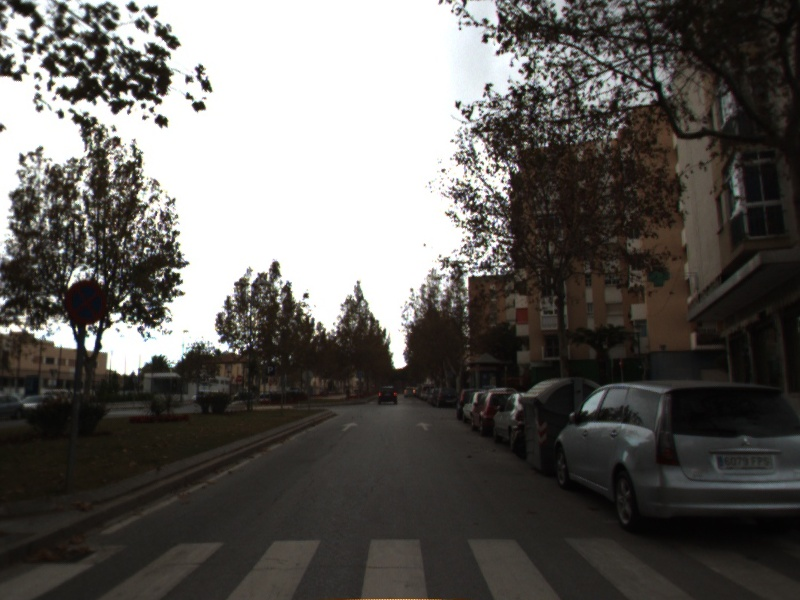STRAIGHT: (338, 420, 361, 433), (414, 420, 435, 433)
